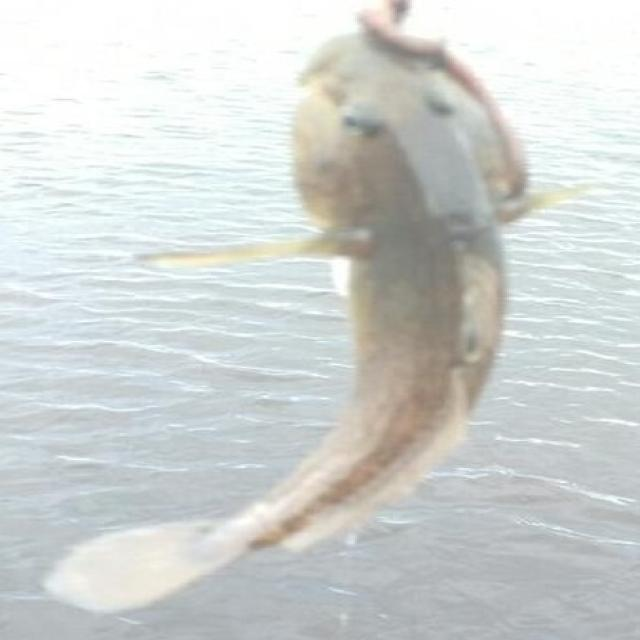Goby: (0, 0, 620, 640)
